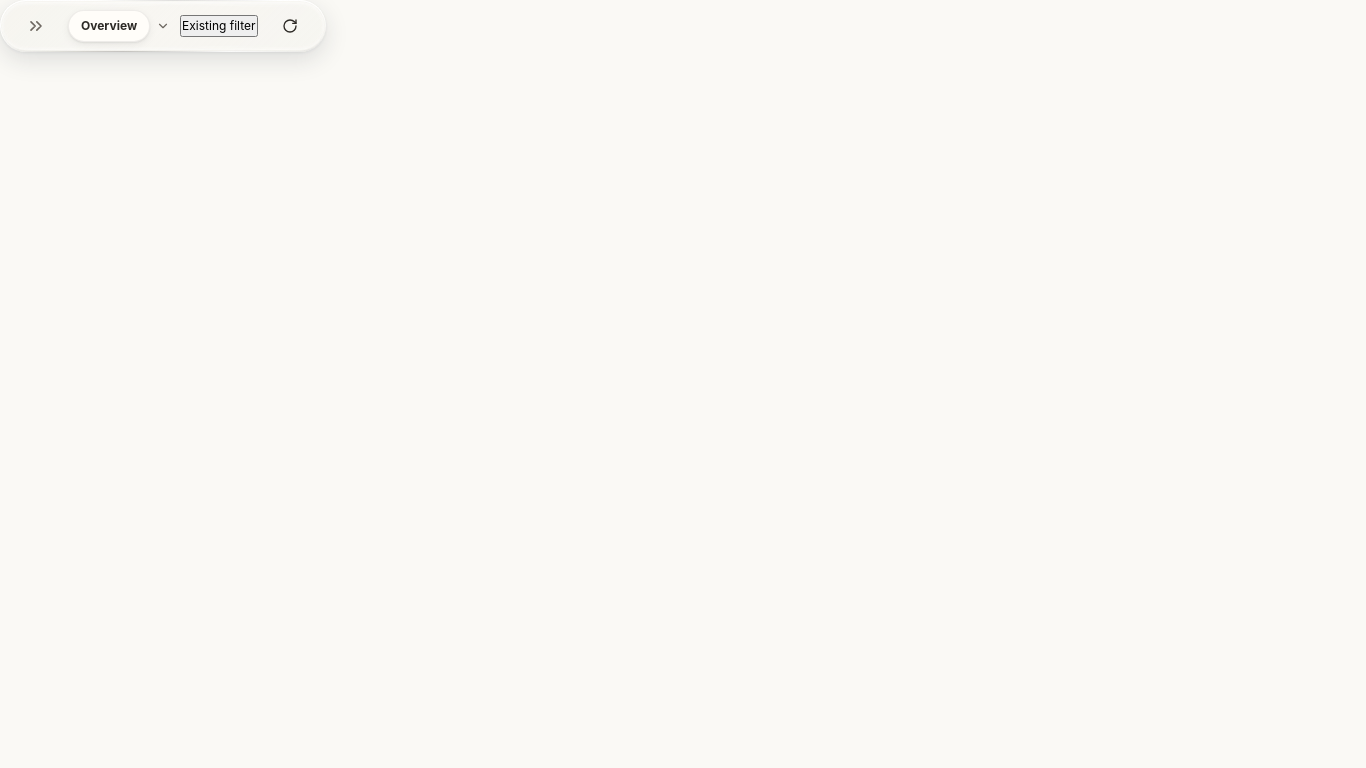
Test case: DashboardToolbar › closes before an outside touch moves focus: page
This screenshot has width=1366, height=768.
Click the button "Overview": (119, 26) [68,4,170,48]
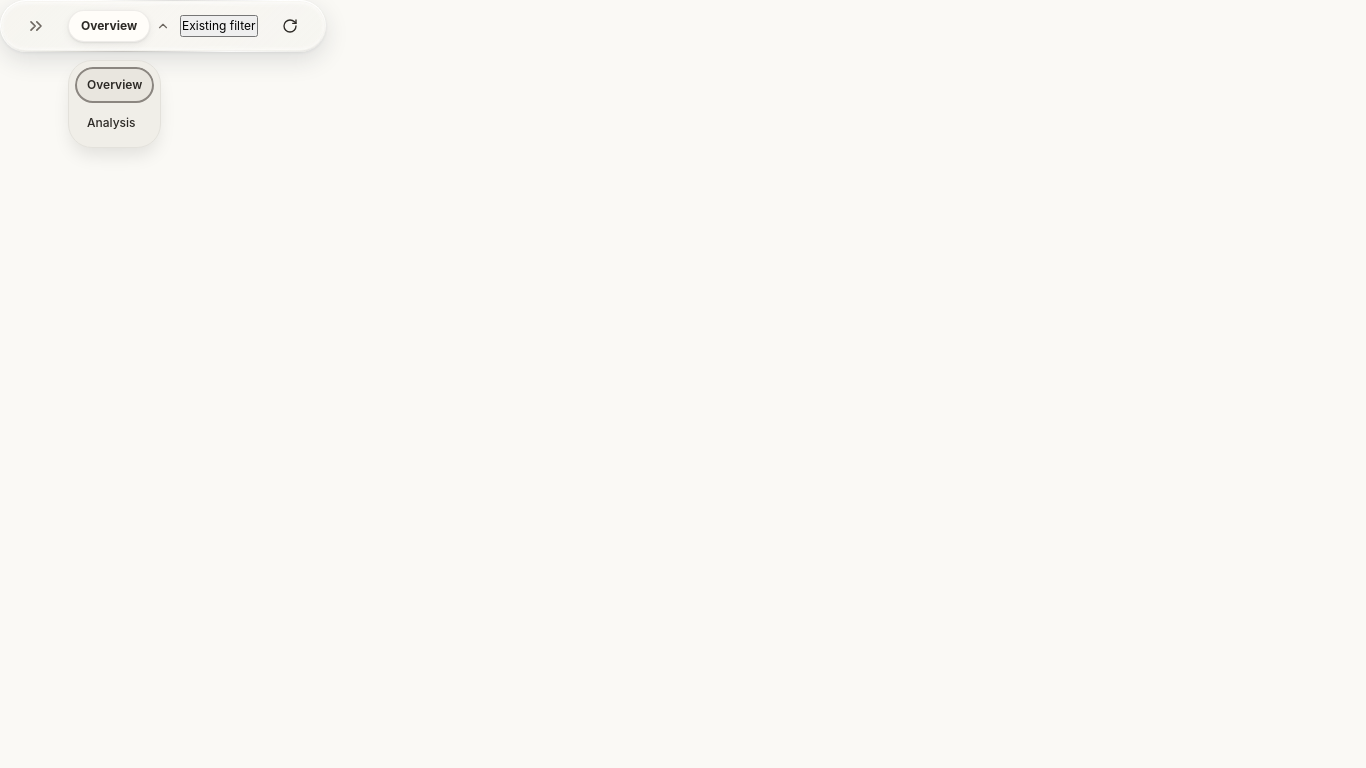
Press the mouse on the element showing "Overview Existing filter Overview Analysis": (679, 384) [0,0,1358,767]
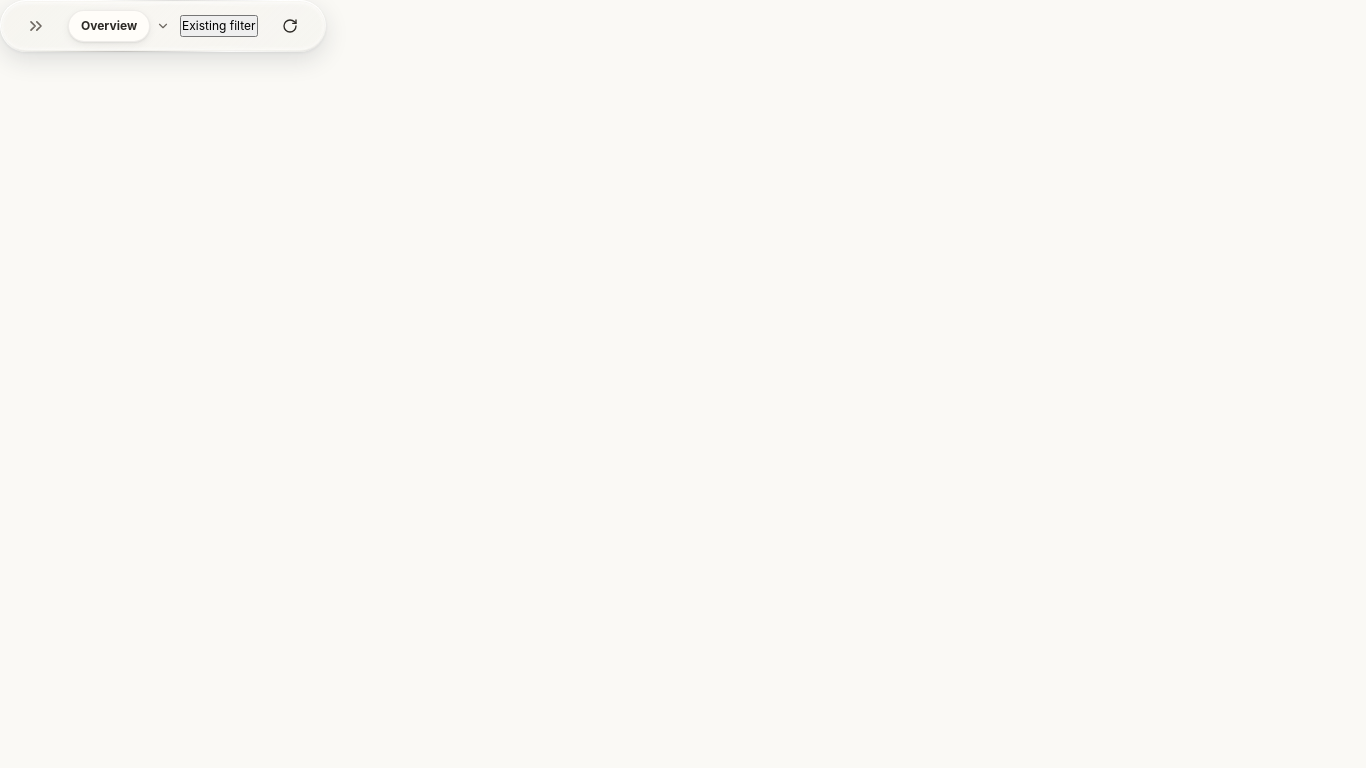
Check: the button "Overview" is collapsed, box [68,4,170,48]
